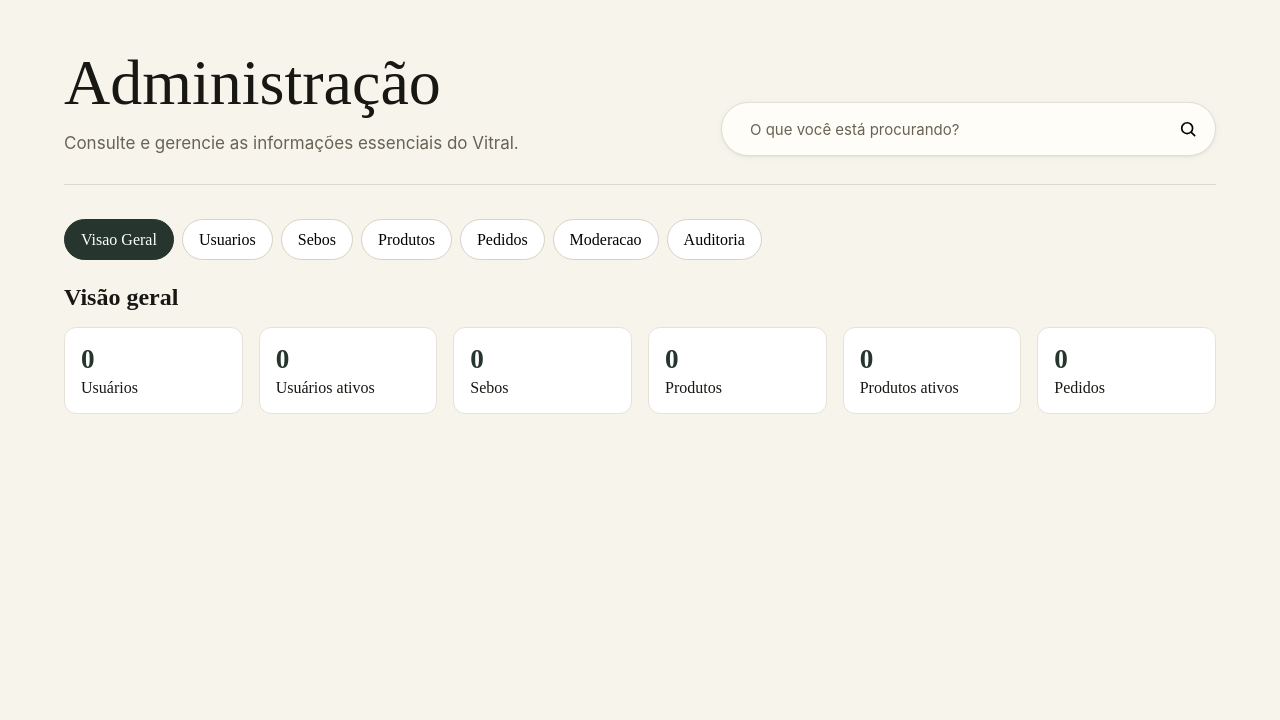
Test: administração › carrega usuários, protege contas administrativas e permite desativar uma conta comum
The width and height of the screenshot is (1280, 720).
Click the button "Usuarios" at (227, 240), box x1=182 y1=219 x2=273 y2=260
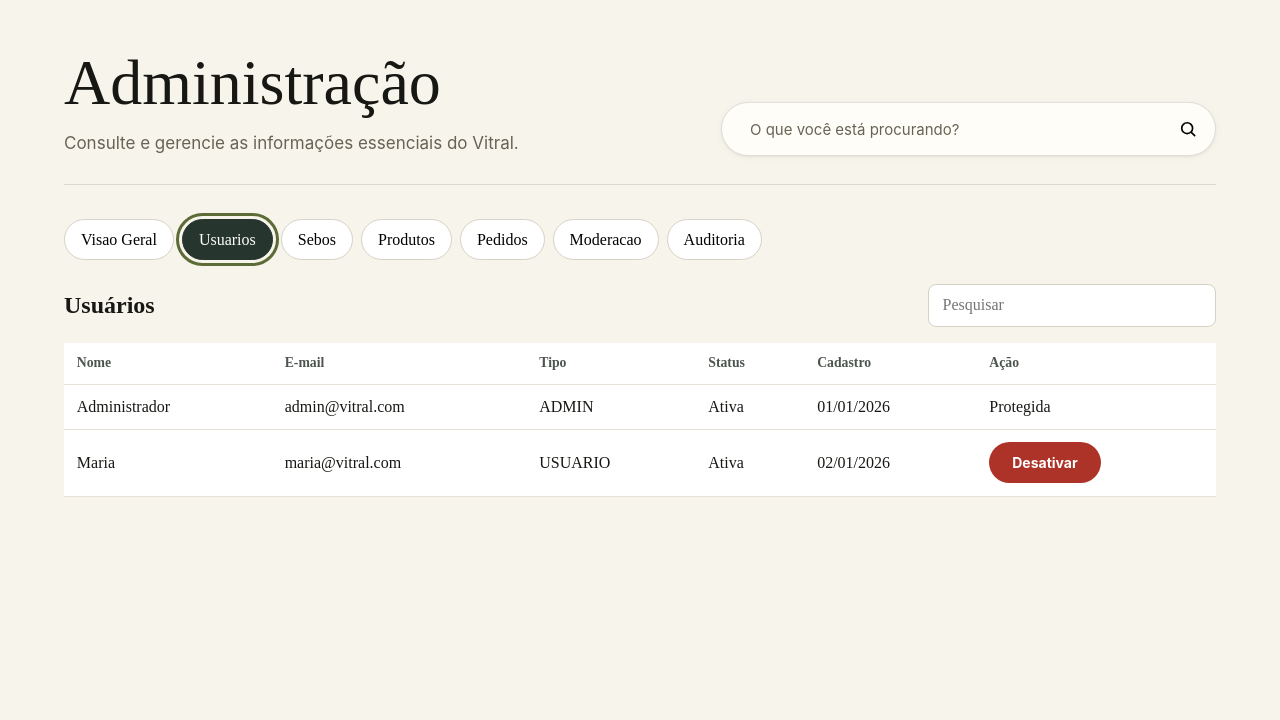
Expected: the text "Maria" is shown, x1=64 y1=429 x2=272 y2=497
Expected: the text "Protegida" is shown, x1=976 y1=385 x2=1216 y2=429
Click the button "Desativar" at (1045, 463), box x1=989 y1=442 x2=1101 y2=484
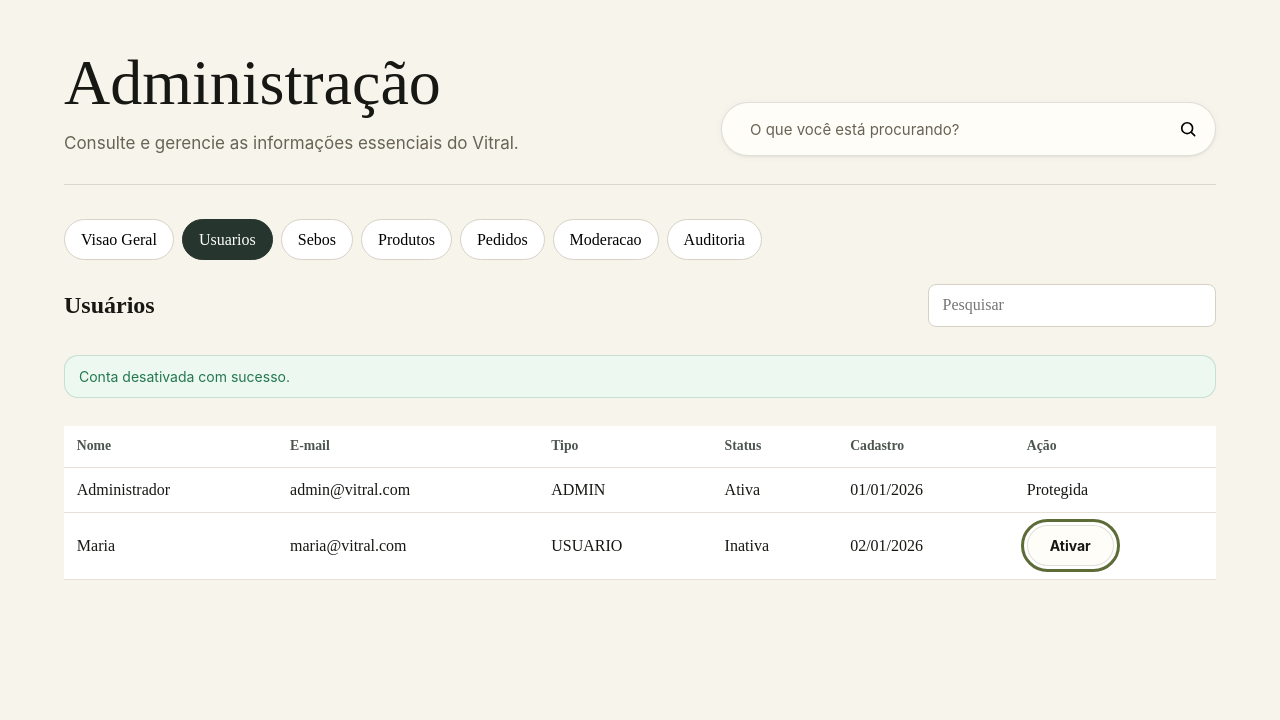
Expected: the text "Conta desativada com sucesso." is shown, x1=64 y1=354 x2=1216 y2=398
